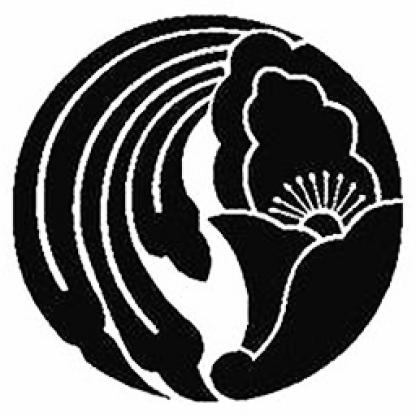kamon: (13, 11, 405, 403)
